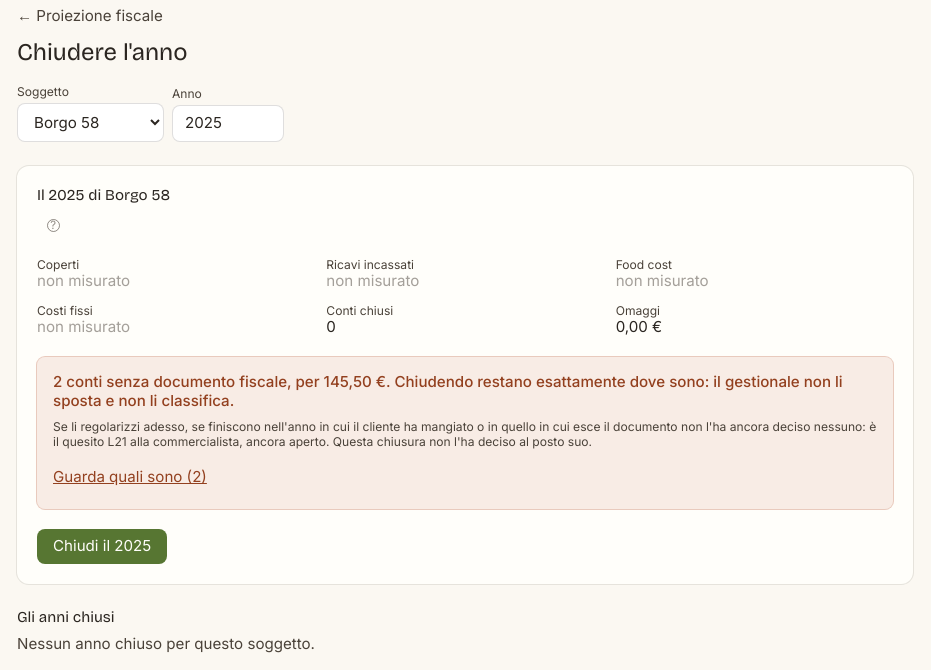
Test: 🔴 con conti senza documento la schermata avvisa PRIMA › 🔴 il pulsante di chiusura diventa una conferma, e NON chiude al primo tocco
This screenshot has width=931, height=670.
Expected: the element showing "non misurato" below "Ricavi incassati" is shown, [326,271,419,290]
Click the button "Chiudi il 2025".
click(102, 547)  # box [37,530,167,564]
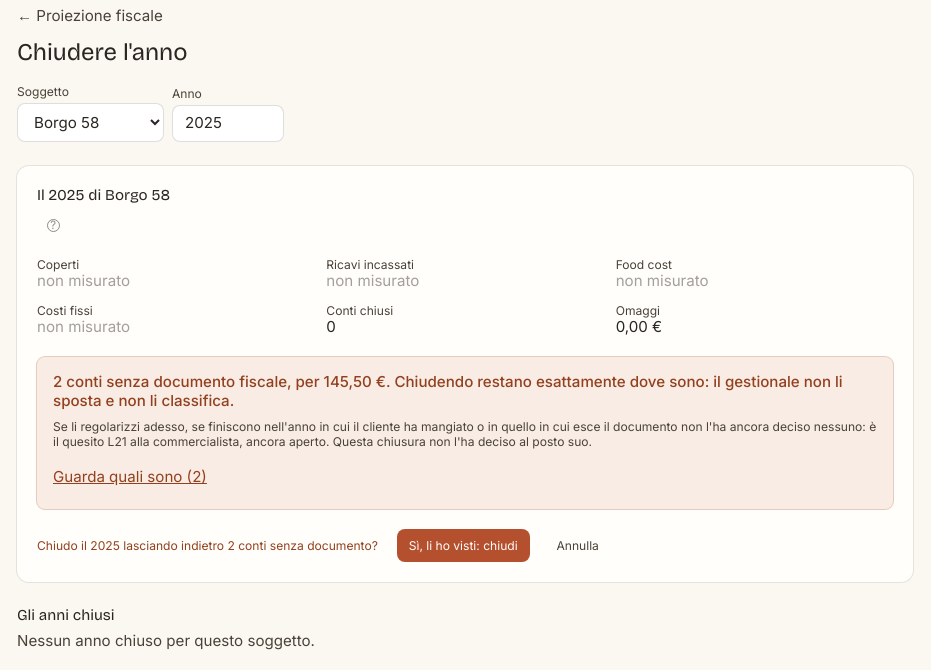
Now the text "Chiudo il 2025 lasciando indietro 2 conti senza documento?" is shown, box [37,538,378,553]
